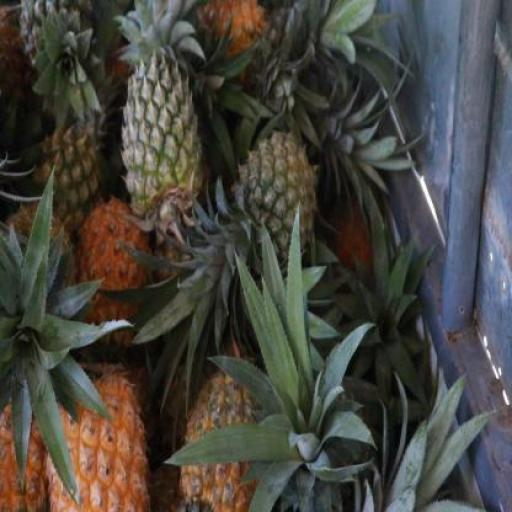Pineapple - v8 v1: (42, 362, 146, 511), (73, 204, 147, 352)
